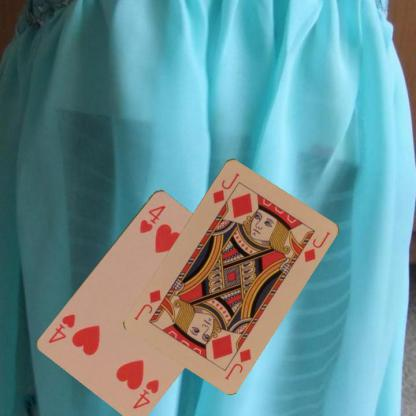4h: (130, 376, 161, 410), (136, 202, 167, 235)
Jd: (210, 170, 241, 204), (222, 346, 252, 380)
